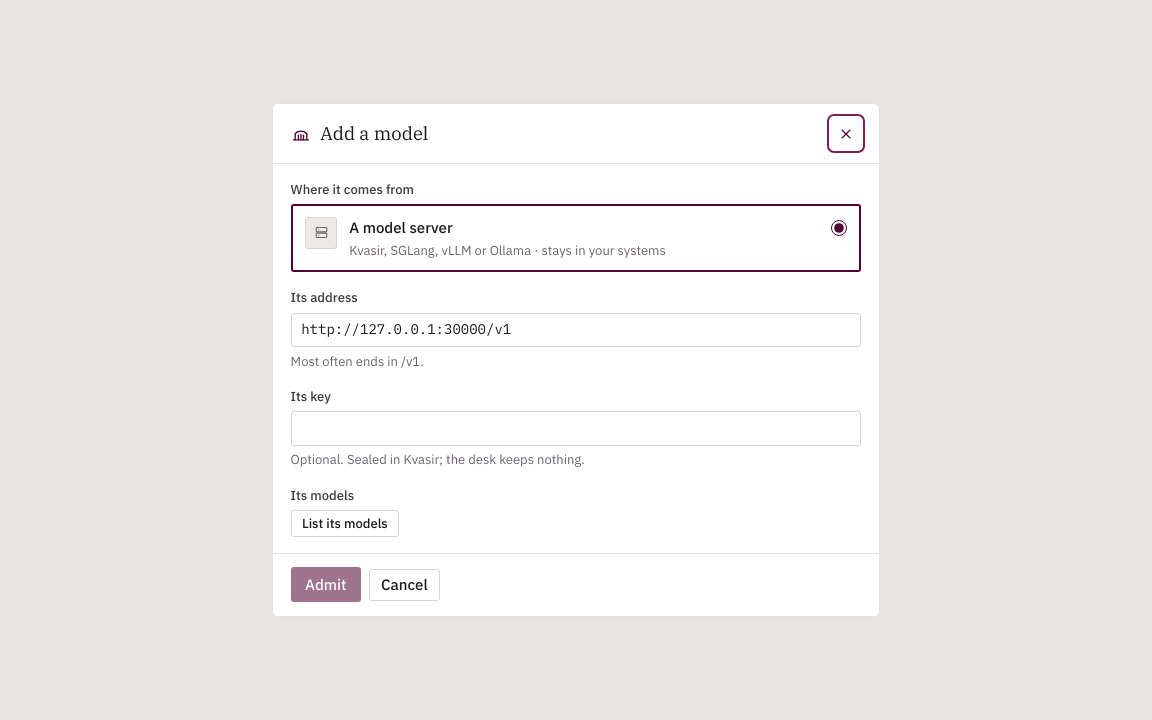
a model server's models, once listed › ticks none where it lists more than eight, and Tick all ticks them all
Click the button "List its models". click: (345, 523)
box: [291, 510, 399, 537]
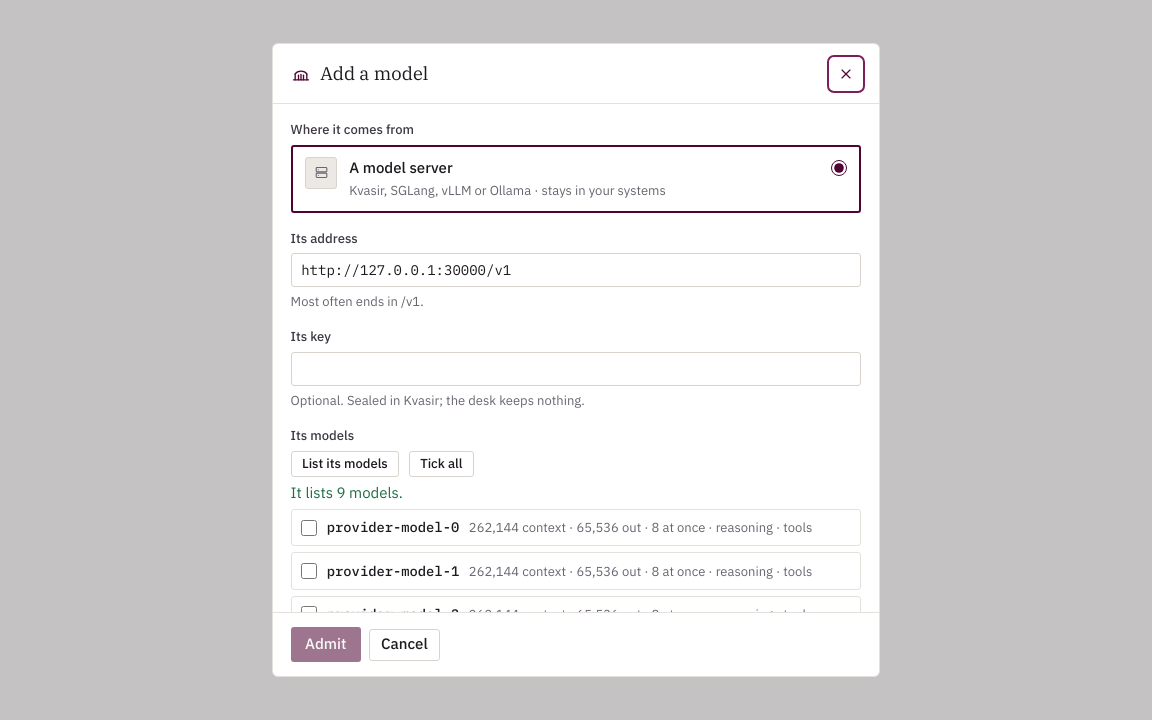
Expected: the button "Admit" is disabled, [291, 627, 361, 662]
Click the button "Tick all". click: (441, 464)
box: [409, 450, 474, 477]
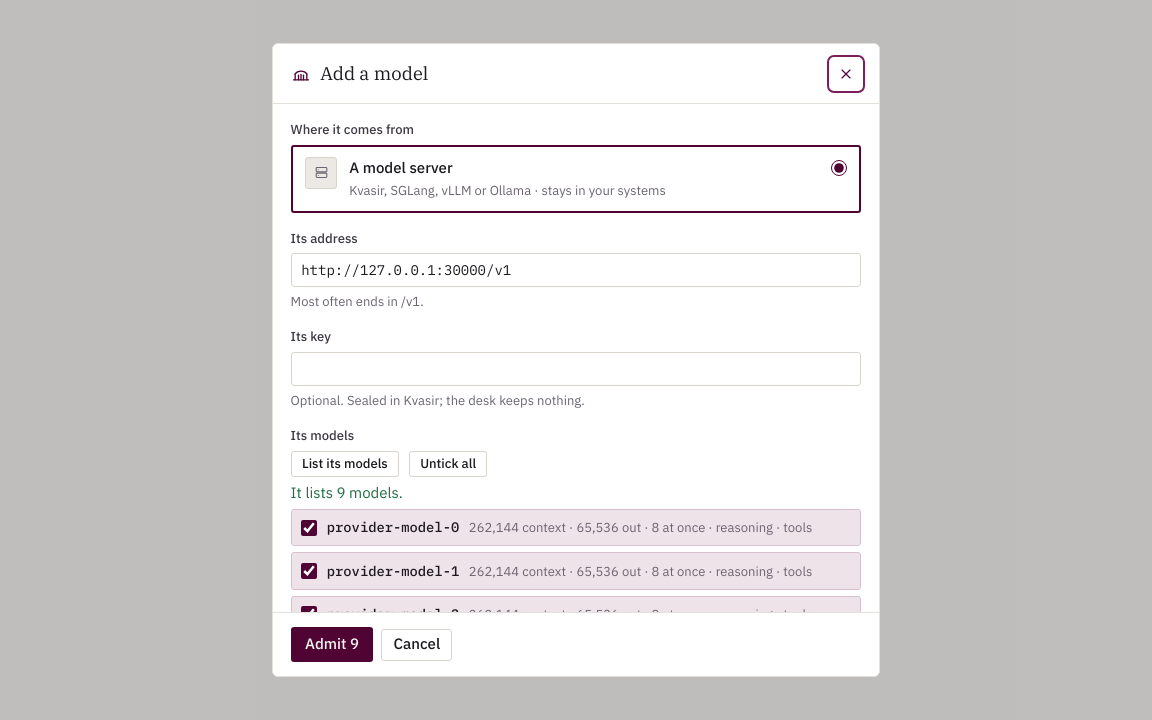
Expected: the button "Admit 9" is enabled, [291, 627, 373, 662]
